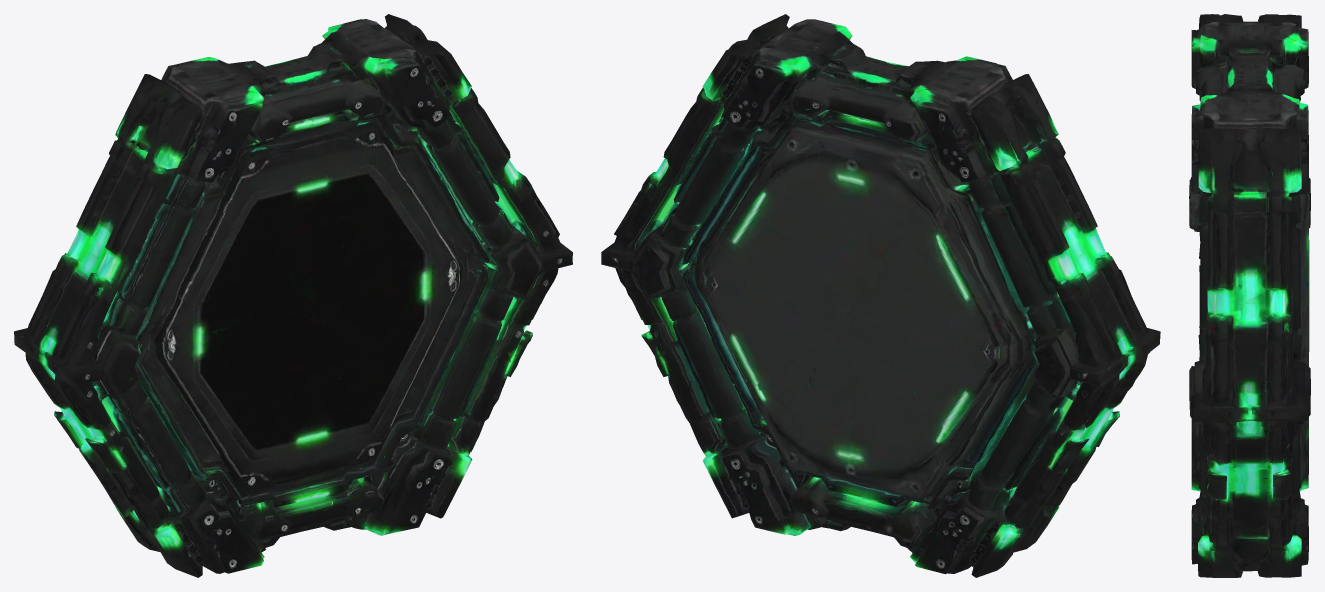
The model's file is node_market_green.glb.
3 renders of one model, left to right at view 1: azimuth 30°, elevation 25°; view 2: azimuth 150°, elevation 25°; view 3: azimuth 270°, elevation 25°, orthographic. The views are drawn at different scales.
Size of the model in its own units: 2 by 1.82 by 0.4372.
Materials: 1 (1 with a texture image).
